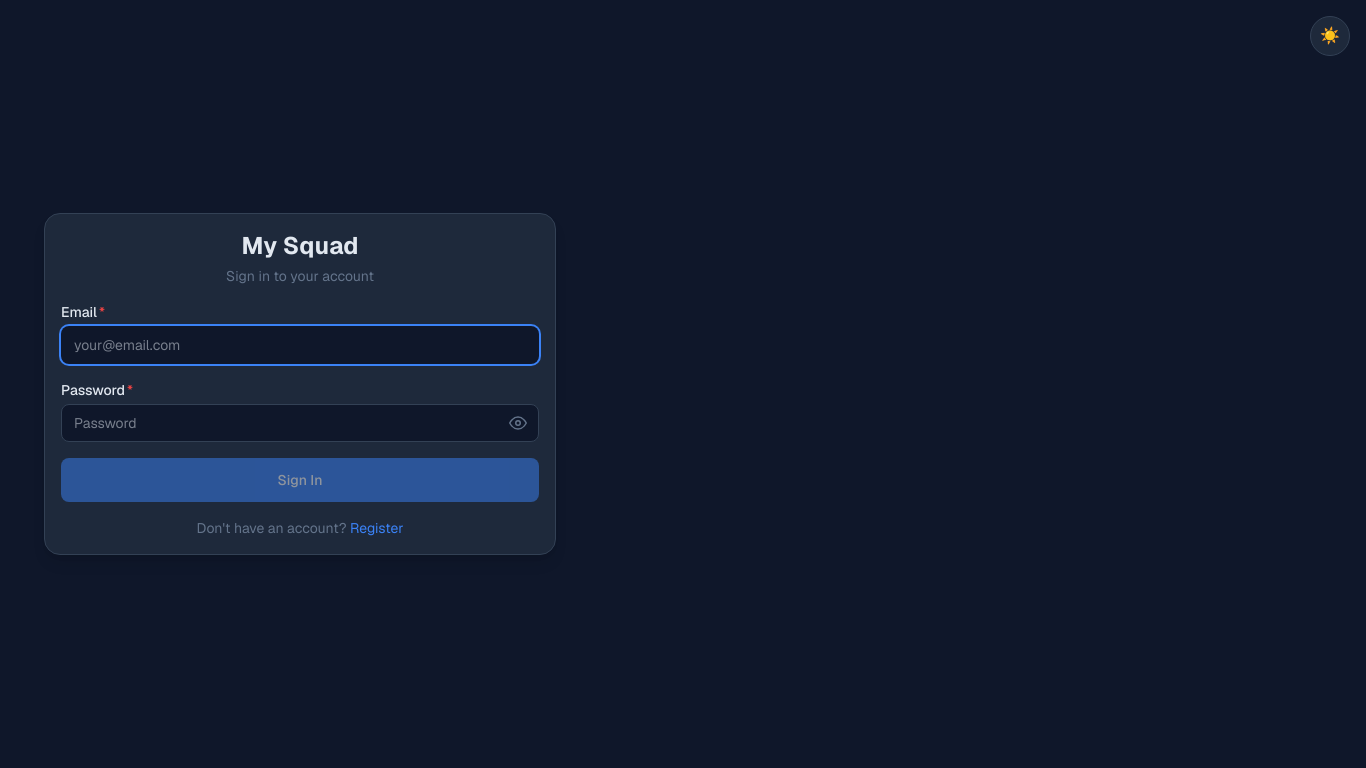
LoginPage › shows server error when login fails
In the field labelled "Email": (300, 345) [61, 326, 539, 364], type "a@b.com"
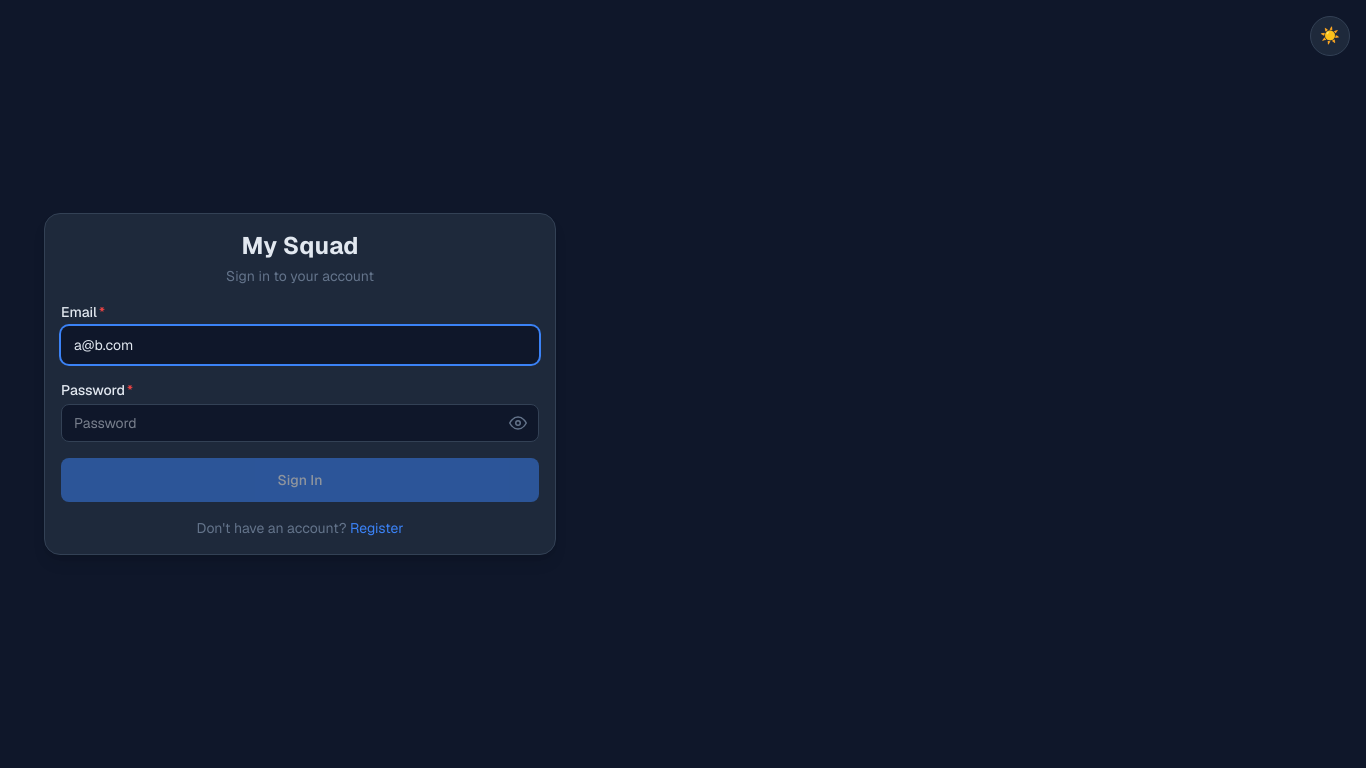
In the password field labelled "Password": (300, 423) [61, 404, 539, 442], type "Hello123"
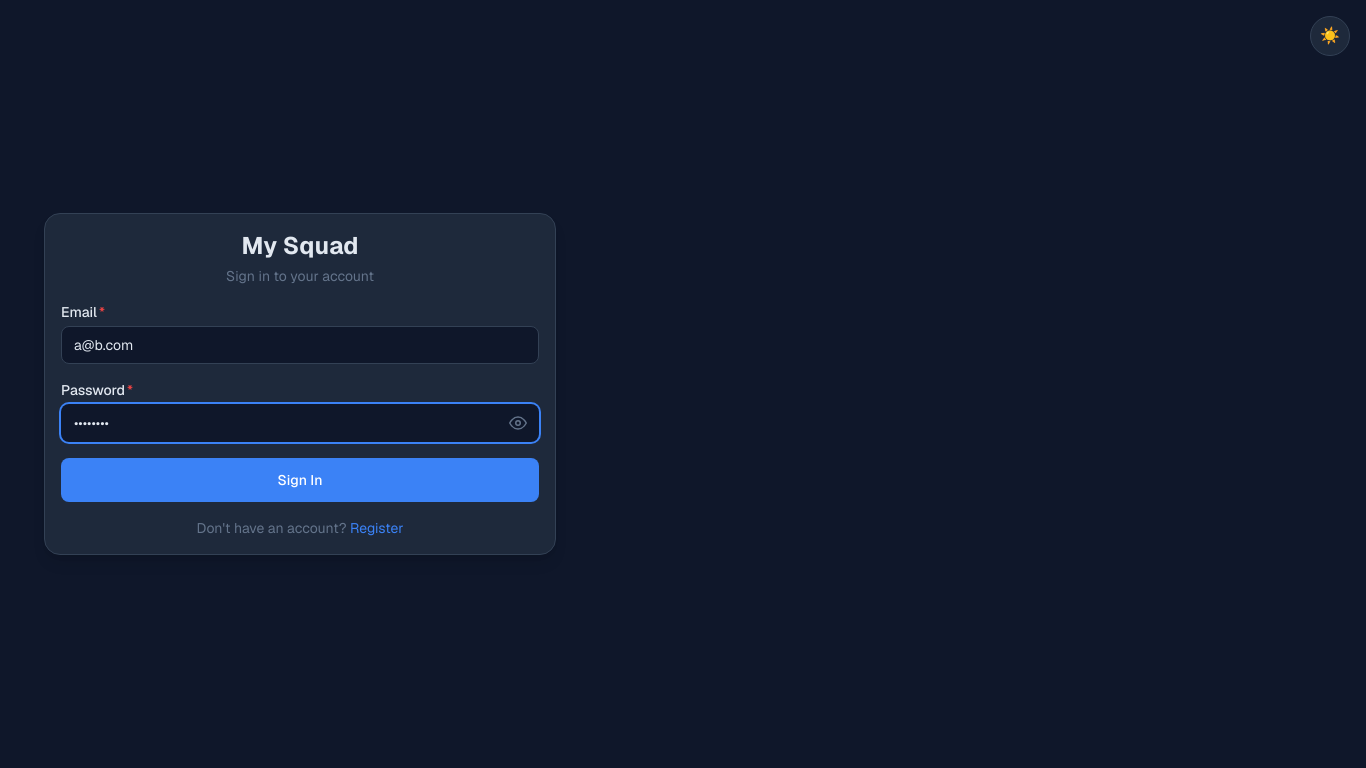
Check: the button "Sign In" is enabled
Click the button "Sign In": (300, 480) [61, 458, 539, 502]
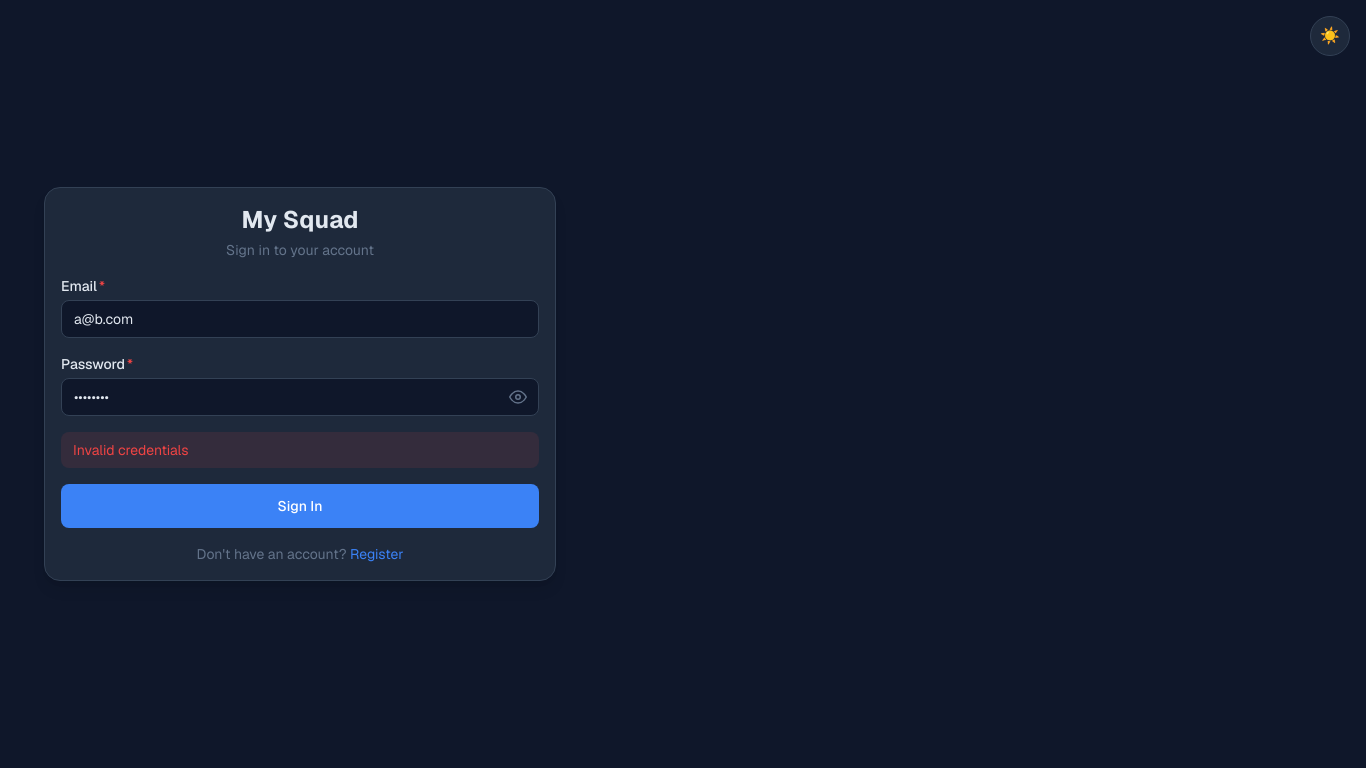
Check: the text "Invalid credentials" is shown, box [61, 432, 539, 468]
